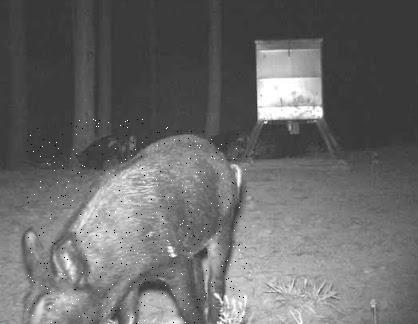Hog: (27, 127, 247, 324), (71, 119, 144, 175)
